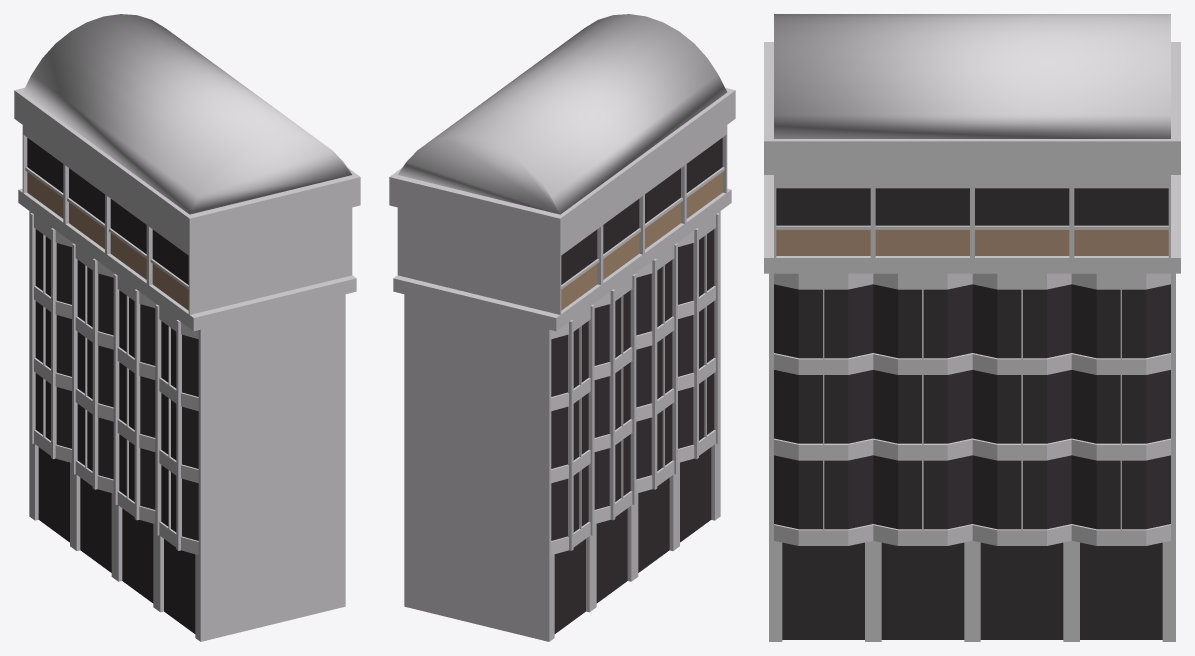
File: building20.glb
3 views of the same model, side by side, from view 1: azimuth 30°, elevation 25°; view 2: azimuth 150°, elevation 25°; view 3: azimuth 270°, elevation 25° (orthographic). The views are drawn at different scales.
Visible parts, largest first — view 1: Cube, Dome; view 2: Cube, Dome; view 3: Cube, Dome.
Part boxes in pixels (bbox=[...]): Cube: bbox=[14, 87, 360, 641]; Dome: bbox=[22, 14, 351, 214]; Cube: bbox=[389, 87, 735, 641]; Dome: bbox=[398, 14, 727, 214]; Cube: bbox=[764, 42, 1180, 641]; Dome: bbox=[774, 14, 1170, 138].
Size of the model in its own units: 4.73 by 12.78 by 8.4.
